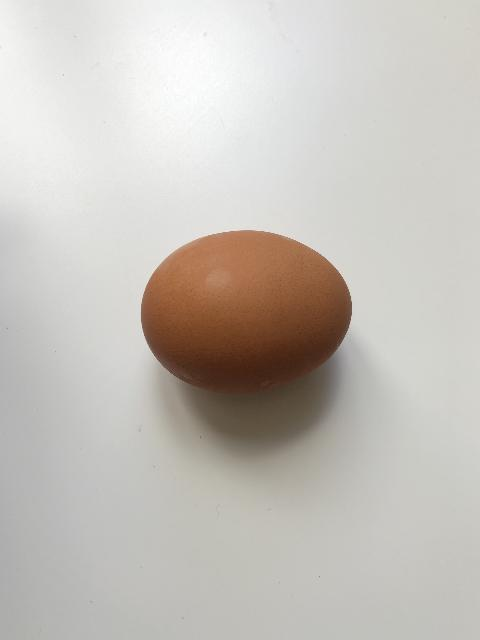Sano: (140, 228, 353, 395)
